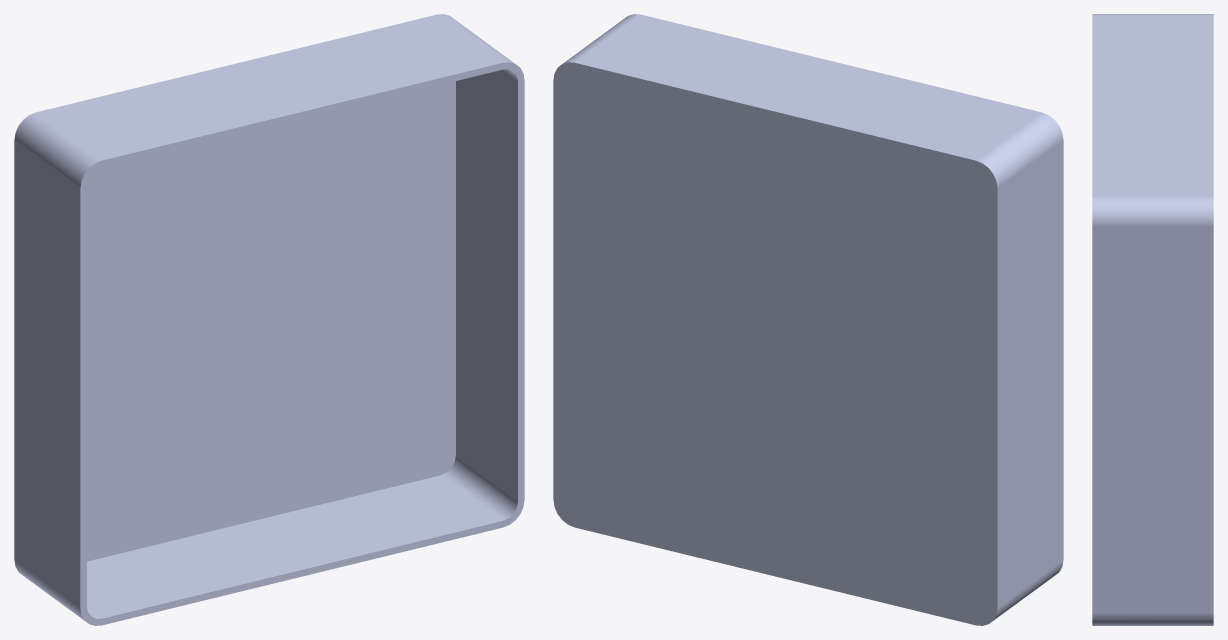
The model's file is Outer_Casing.obj.
3 renders of one model, left to right at view 1: azimuth 30°, elevation 25°; view 2: azimuth 150°, elevation 25°; view 3: azimuth 270°, elevation 25°, orthographic. The views are drawn at different scales.
Visible parts, largest first — view 1: mesh 1 Outer_Casing; view 2: mesh 1 Outer_Casing; view 3: mesh 1 Outer_Casing.
Part boxes in pixels (box(x1,y1,x2,y2)): mesh 1 Outer_Casing: box(14, 14, 524, 625); mesh 1 Outer_Casing: box(553, 14, 1063, 625); mesh 1 Outer_Casing: box(1092, 14, 1213, 625).
Size of the model in its own units: 0.206 by 0.206 by 0.053.
